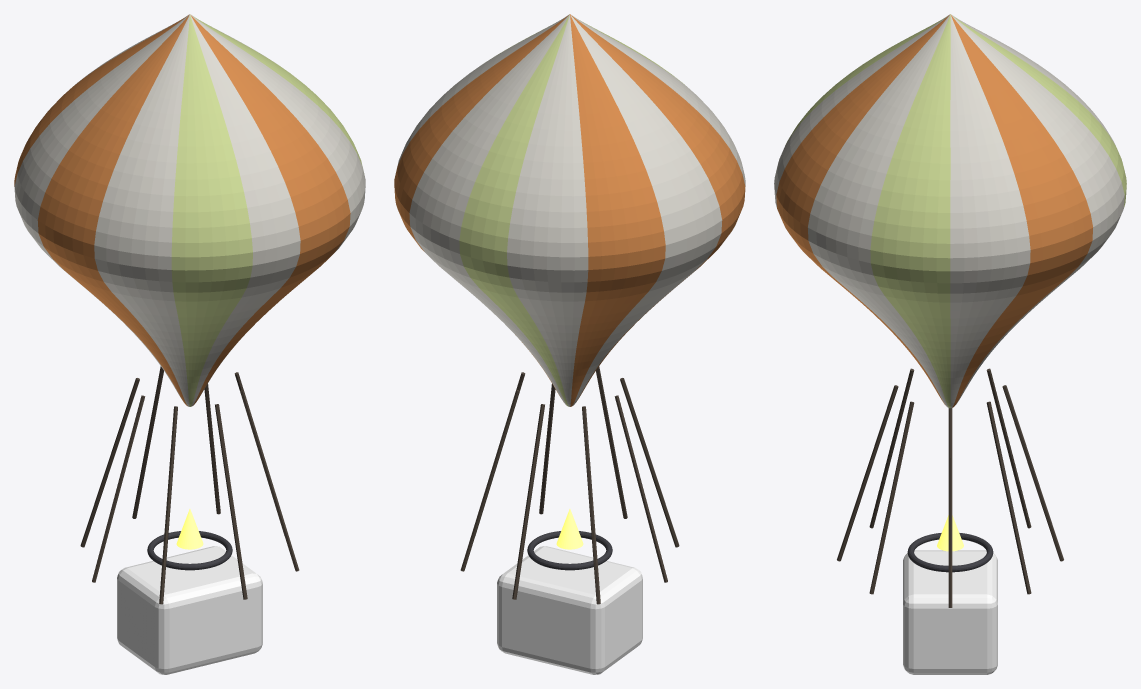
File: balloon.glb
The picture shows the model from 3 angles, left to right: view 1: azimuth 30°, elevation 25°; view 2: azimuth 150°, elevation 25°; view 3: azimuth 270°, elevation 25°; orthographic projection.
Visible parts, largest first — view 1: Balloon_Envelope, Balloon_Basket, Burner_Ring, Rope_6, Rope_5, Rope_4, Rope_7, Rope_3, Rope_2, Burner_Flame, Rope_1; view 2: Balloon_Envelope, Balloon_Basket, Burner_Ring, Rope_2, Rope_3, Rope_4, Rope_1, Rope_5, Rope_6, Burner_Flame, Rope_7; view 3: Balloon_Envelope, Balloon_Basket, Burner_Ring, Rope_0, Rope_1, Rope_7, Rope_2, Rope_6, Rope_3, Rope_5.
Part boxes in pixels (<box>): Balloon_Envelope: <box>14,14,365,406</box>; Balloon_Basket: <box>117,546,262,674</box>; Burner_Ring: <box>147,531,232,570</box>; Rope_6: <box>215,404,247,599</box>; Rope_5: <box>159,406,177,604</box>; Rope_4: <box>92,395,145,582</box>; Rope_7: <box>240,389,299,571</box>; Rope_3: <box>80,378,139,547</box>; Rope_2: <box>132,366,163,518</box>; Burner_Flame: <box>176,509,203,549</box>; Rope_1: <box>204,383,220,514</box>; Balloon_Envelope: <box>394,14,745,406</box>; Balloon_Basket: <box>497,546,642,674</box>; Burner_Ring: <box>527,531,612,570</box>; Rope_2: <box>512,404,544,599</box>; Rope_3: <box>582,406,600,604</box>; Rope_4: <box>614,395,667,582</box>; Rope_1: <box>460,389,519,571</box>; Rope_5: <box>620,378,679,547</box>; Rope_6: <box>596,366,627,518</box>; Burner_Flame: <box>556,509,583,549</box>; Rope_7: <box>539,383,555,514</box>; Balloon_Envelope: <box>774,14,1126,408</box>; Balloon_Basket: <box>903,550,997,674</box>; Burner_Ring: <box>907,533,993,572</box>; Rope_0: <box>948,408,952,607</box>; Rope_1: <box>986,401,1031,594</box>; Rope_7: <box>869,401,914,594</box>; Rope_2: <box>1002,385,1063,561</box>; Rope_6: <box>837,385,898,561</box>; Rope_3: <box>986,368,1031,528</box>; Rope_5: <box>869,368,914,528</box>.
Bounding box in the file's own units: 1.96 × 3.91 × 1.96.
